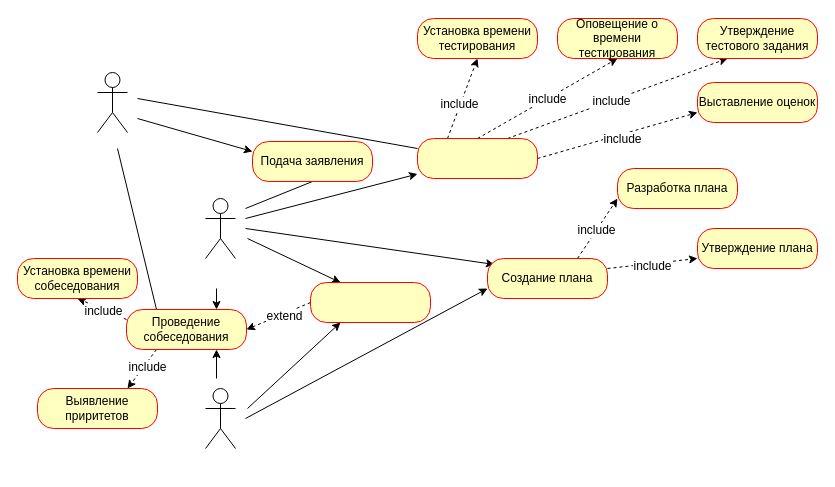
This 835x487 diagram has some shape labels left out. The shapes that lost their labels are listed below. From the top down, each one's box as (x1, y1, x2, y2) in pixels, then its label:
(96, 72, 128, 132): Ученик
(416, 138, 538, 178): Проведение тестирования
(204, 198, 236, 258): Завуч
(310, 282, 430, 322): Отсев претендентов
(204, 388, 236, 448): Директор
